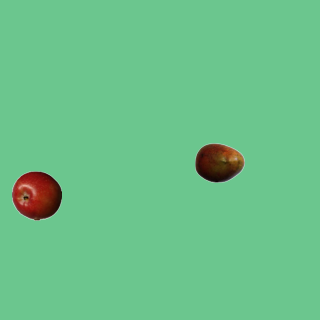Apple Braeburn: (11, 170, 61, 220)
Mango Red: (194, 137, 244, 187)
